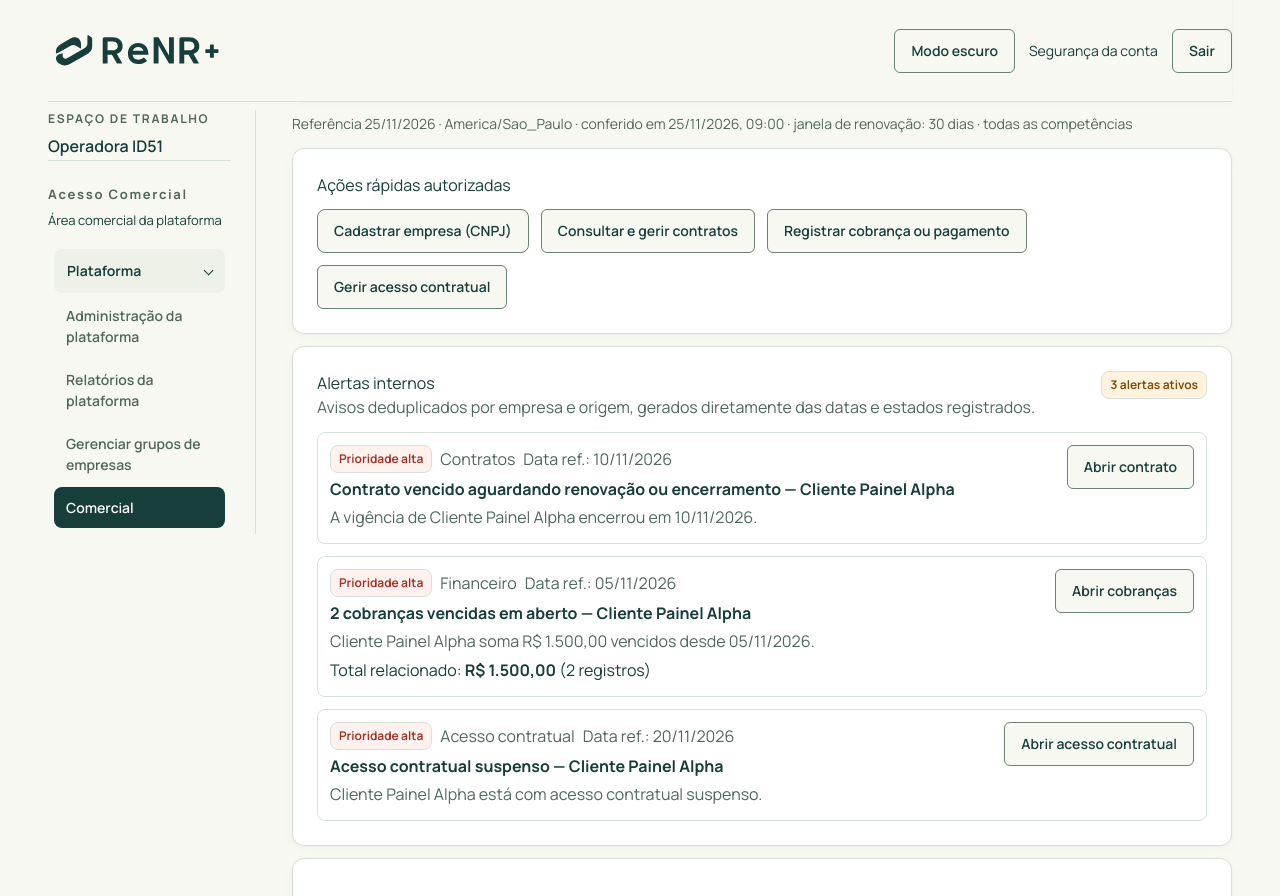
Test: exibe totais reconciliados, valida período, aciona atalhos de alerta e mostra estado vazio
(page scrolled)
Expected: the text "2 cobranças vencidas em aberto — Cliente Painel Alpha" is shown, left=330, top=602, right=751, bottom=624
# Clicar no alerta de cobranças vencidas abre Cobranças e pagamentos filtrado por status OVERDUE e organização
Step 1. Click the button with aria-label "Abrir cobranças de Cliente Painel Alpha" → (1125, 591), box left=1055, top=569, right=1194, bottom=613
(page scrolled)
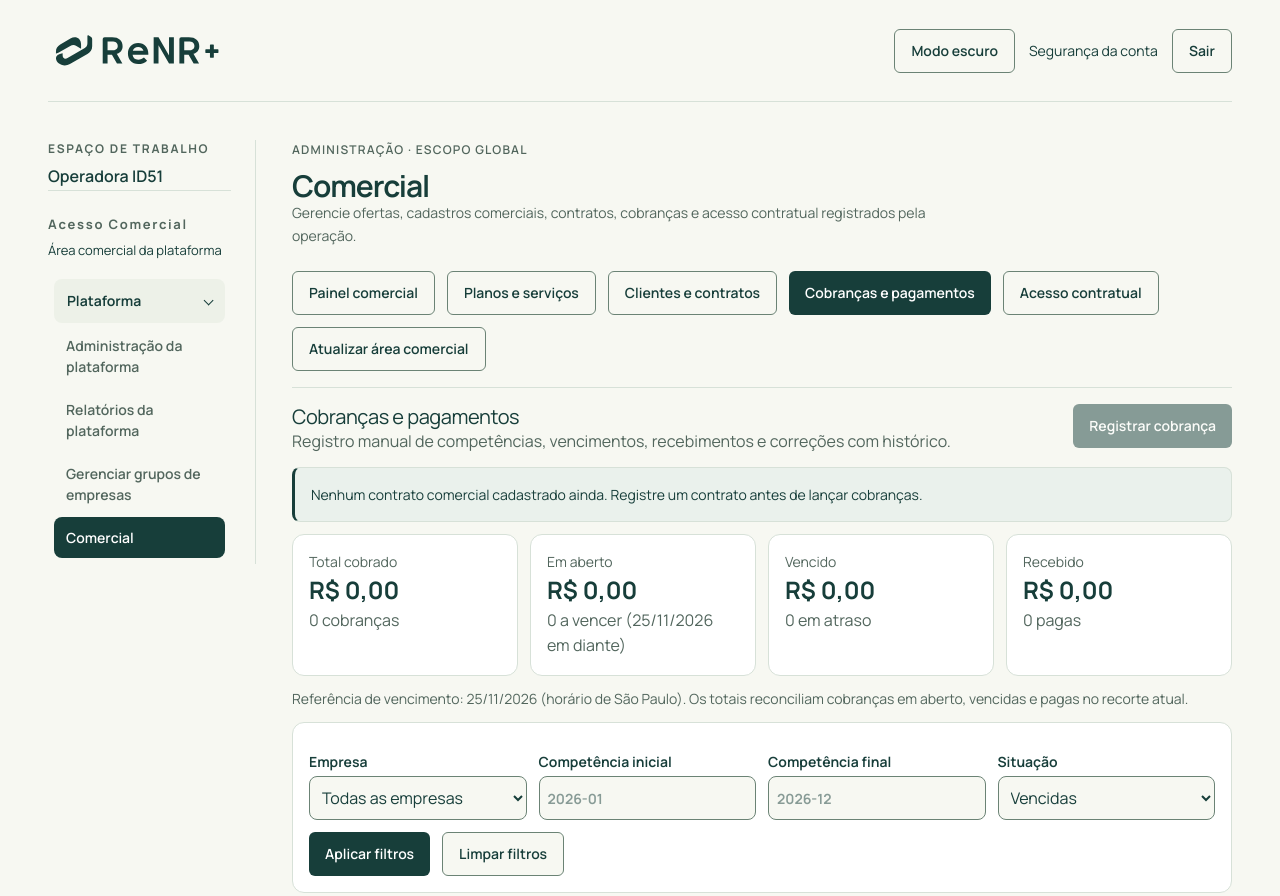
Result: the heading "Cobranças e pagamentos" is shown at left=292, top=403, right=519, bottom=430
